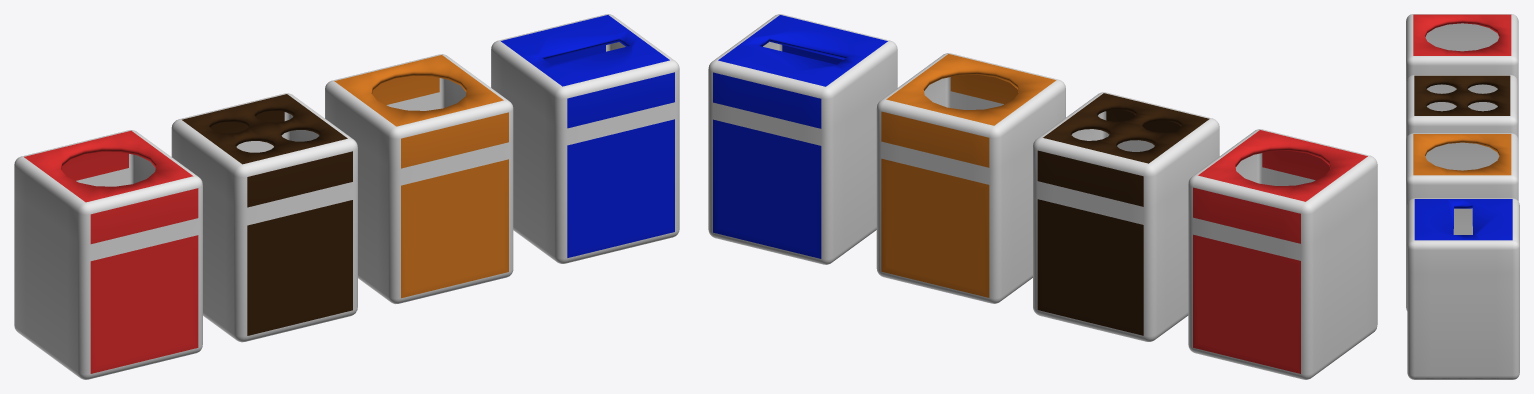
Rendered from trashcans.fbx.
3 views of the same model, side by side, from view 1: azimuth 30°, elevation 25°; view 2: azimuth 150°, elevation 25°; view 3: azimuth 270°, elevation 25° (orthographic). The views are drawn at different scales.
Parts seen in each view (by area): view 1: Cube, Cube.003, Cube.002, Cube.001; view 2: Cube, Cube.003, Cube.002, Cube.001; view 3: Cube.003, Cube.002, Cube, Cube.001.
Boxes of the visible parts, x1,y1,x2,y2 form: Cube: [14, 130, 202, 379]; Cube.003: [491, 14, 679, 263]; Cube.002: [325, 54, 513, 304]; Cube.001: [171, 93, 357, 342]; Cube: [1188, 129, 1377, 379]; Cube.003: [708, 14, 897, 264]; Cube.002: [876, 53, 1065, 303]; Cube.001: [1033, 92, 1219, 341]; Cube.003: [1407, 198, 1519, 379]; Cube.002: [1406, 133, 1518, 310]; Cube: [1406, 14, 1518, 139]; Cube.001: [1406, 75, 1517, 137].
Size of the model in its own units: 464 by 131 by 96.61.
